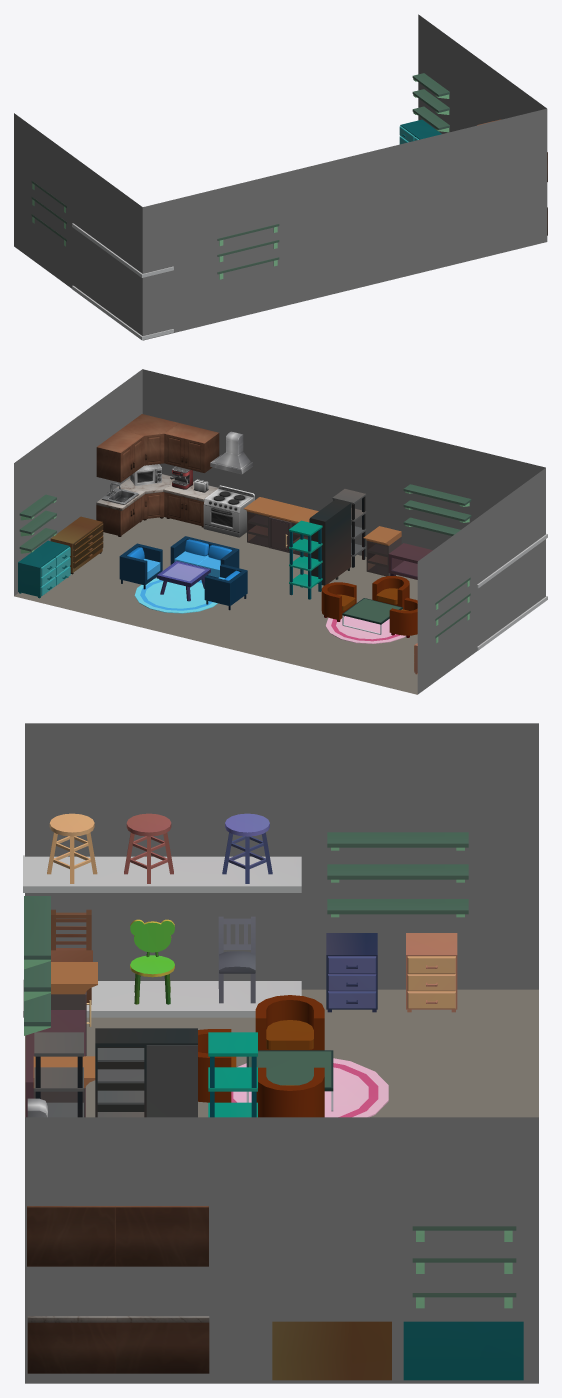
The model's file is Funiture_Shop.fbx.
The picture shows the model from 3 angles, top to bottom: view 1: azimuth 30°, elevation 25°; view 2: azimuth 150°, elevation 25°; view 3: azimuth 270°, elevation 25°; orthographic projection. The views are drawn at different scales.
Visible parts, largest first — view 1: Room, WallShelf_S3, WallShelf_S1, Shelf_S1, Chair_S1, Chair_S2; view 2: Room, KitchenArea, polySurface2, Sofa_01, Shelf_S10, Shelf_S16, Shelf_S11, Shelf_S1, Shelf_S9, Shelf_S2, WallShelf_S1, polySurface1 (+3 smaller); view 3: Room, KitchenArea, Chair_S1, Chair_S2, Sofa_01, Shelf_S10, Shelf_S1, Shelf_S2, WallShelf_S2, Shelf_S11, Shelf_S13, Shelf_S12 (+5 smaller).
Part boxes in pixels (<box>): Room: <box>14,14,547,340</box>; WallShelf_S3: <box>412,73,449,132</box>; WallShelf_S1: <box>217,224,279,279</box>; Shelf_S1: <box>399,119,441,144</box>; Chair_S1: <box>72,223,173,277</box>; Chair_S2: <box>72,285,173,340</box>; Room: <box>14,369,545,694</box>; KitchenArea: <box>96,414,254,537</box>; polySurface2: <box>119,536,247,613</box>; Sofa_01: <box>321,576,417,637</box>; Shelf_S10: <box>309,499,350,585</box>; Shelf_S16: <box>243,497,318,556</box>; Shelf_S11: <box>363,526,432,579</box>; Shelf_S1: <box>18,540,70,598</box>; Shelf_S9: <box>289,520,322,599</box>; Shelf_S2: <box>50,516,103,574</box>; WallShelf_S1: <box>403,484,471,535</box>; polySurface1: <box>325,616,405,643</box>; Room: <box>25,723,538,1383</box>; KitchenArea: <box>27,1098,209,1373</box>; Chair_S1: <box>23,813,301,892</box>; Chair_S2: <box>23,909,301,1017</box>; Sofa_01: <box>198,995,333,1117</box>; Shelf_S10: <box>95,1028,197,1117</box>; Shelf_S1: <box>403,1321,523,1380</box>; Shelf_S2: <box>272,1321,391,1380</box>; WallShelf_S2: <box>327,832,468,917</box>; Shelf_S11: <box>25,962,97,1117</box>; Shelf_S13: <box>326,933,377,1012</box>; Shelf_S12: <box>406,933,457,1012</box>.
Bounding box in the file's own units: 158 × 49.67 × 86.8.
Materials: 4 (2 with a texture image).
